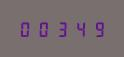four: (69, 20, 85, 37)
nine: (86, 20, 102, 37)
three: (52, 20, 68, 37)
zero: (18, 20, 34, 37), (35, 20, 51, 37)
